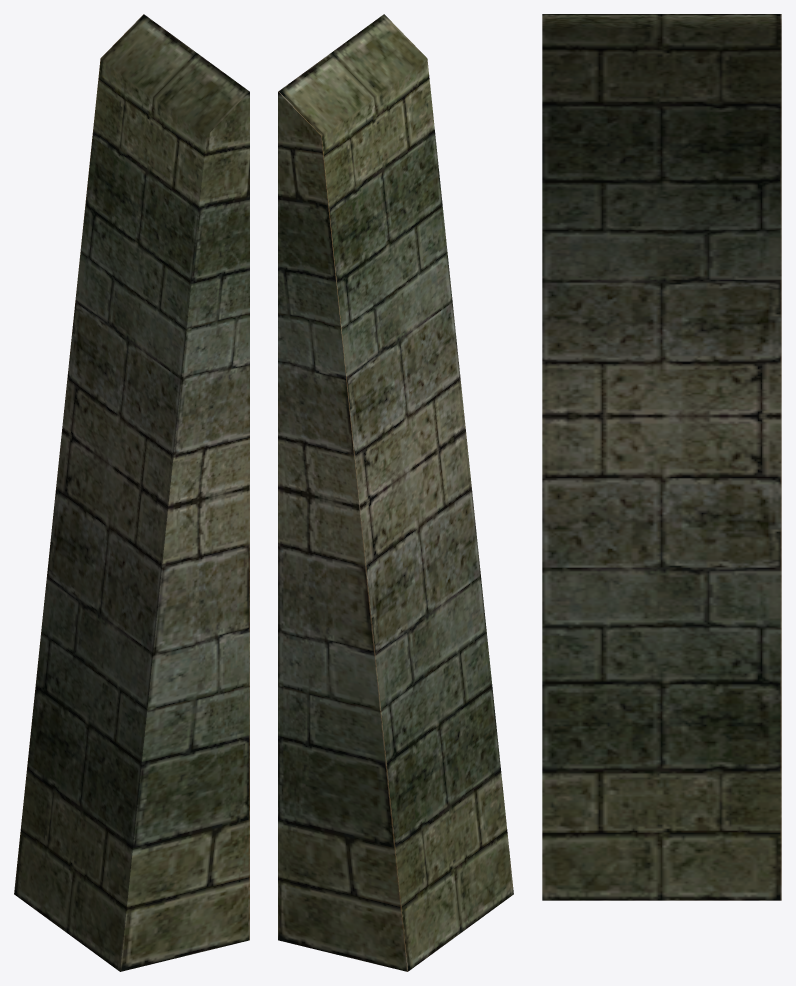
3 renders of one model, left to right at view 1: azimuth 30°, elevation 25°; view 2: azimuth 150°, elevation 25°; view 3: azimuth 270°, elevation 25°, orthographic. The views are drawn at different scales.
Visible parts, largest first — view 1: cc28-col; view 2: cc28-col; view 3: cc28-col.
Boxes of the visible parts, x1=… form: cc28-col: x1=14, y1=14, x2=249, y2=971; cc28-col: x1=278, y1=14, x2=513, y2=971; cc28-col: x1=542, y1=14, x2=781, y2=900.
Size of the model in its own units: 1.2 by 7.5 by 1.7.
1 material, 1 textured.
